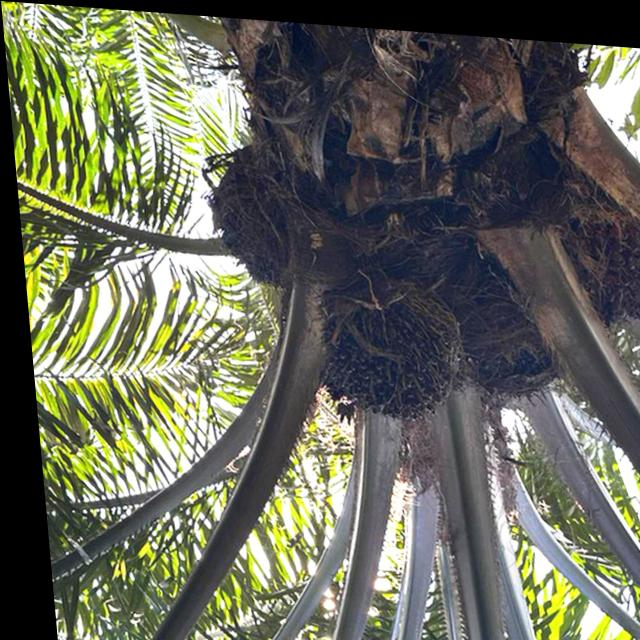unripe: (298, 250, 468, 432)
